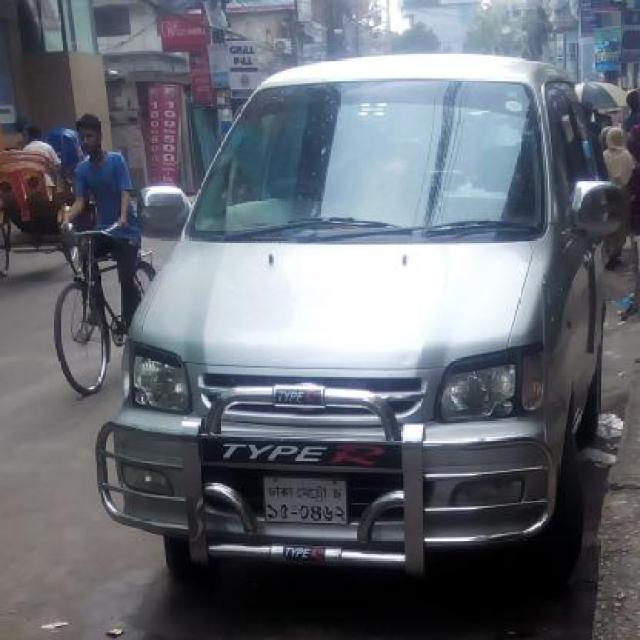numberplate: (260, 474, 349, 525)
